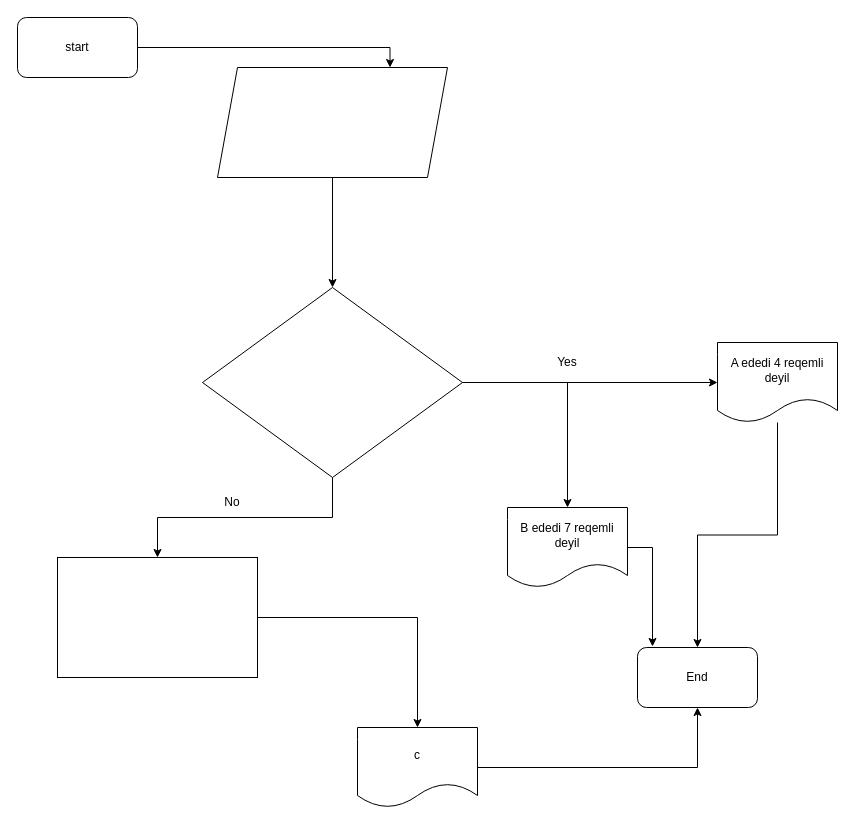
The diagram is 855 pixels wide and 825 high, and some of its shapes have lost their labels. The shapes that lost their labels are listed below. From the top down, each one's centre as x and y in pixels, then its label:
(x=332, y=122): a = 1246; b = 1238867; c; 2 dene eded verilib 1-ci 4reqemli 2-ci 7reqemli
(x=332, y=382): b < 1000000 || b > 9999999 and a < 1000 || a > 9999
(x=157, y=617): a = a / 100 * 4; b = b / 100 * 9; c = a + b; c = c / 100 * 10;
